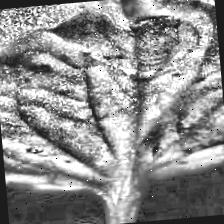disease: (0, 0, 224, 192)
